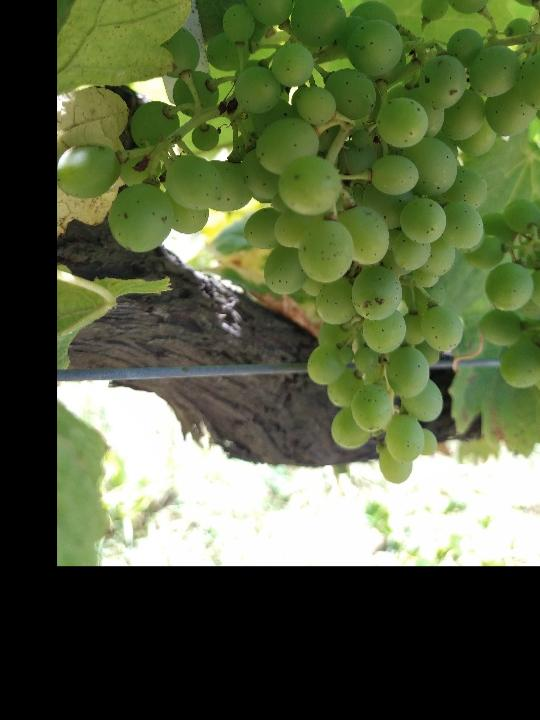grape: (61, 0, 540, 484)
